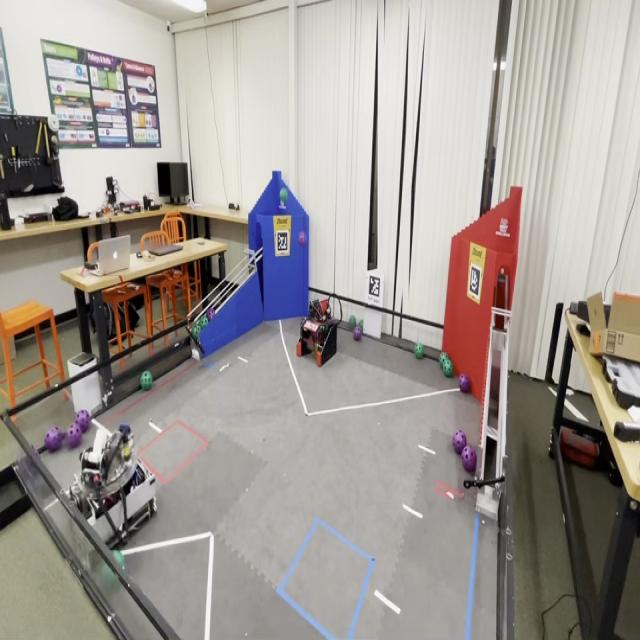artifact_green: (99, 560, 119, 592), (99, 563, 118, 593), (140, 370, 153, 391), (113, 549, 125, 567), (442, 360, 453, 378), (414, 343, 423, 359), (199, 315, 208, 330), (440, 352, 449, 367), (206, 306, 215, 321), (280, 188, 287, 206), (442, 357, 451, 370), (349, 316, 357, 330), (191, 323, 199, 337), (193, 318, 201, 328), (358, 320, 363, 331), (446, 357, 452, 363)
artifact_purple: (45, 427, 63, 452), (461, 446, 477, 474), (66, 424, 82, 447), (75, 409, 91, 432), (452, 430, 466, 455), (459, 374, 470, 393), (206, 307, 215, 321), (298, 232, 306, 246), (354, 326, 361, 341), (332, 318, 339, 325)
